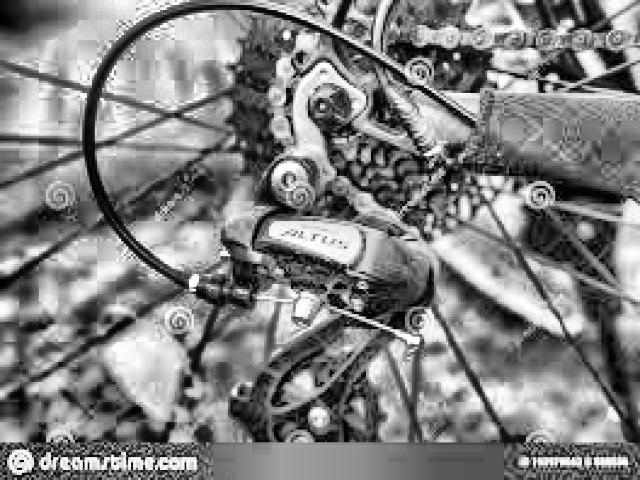cassette: (225, 0, 494, 211)
rear_derailleur: (197, 148, 437, 444)
